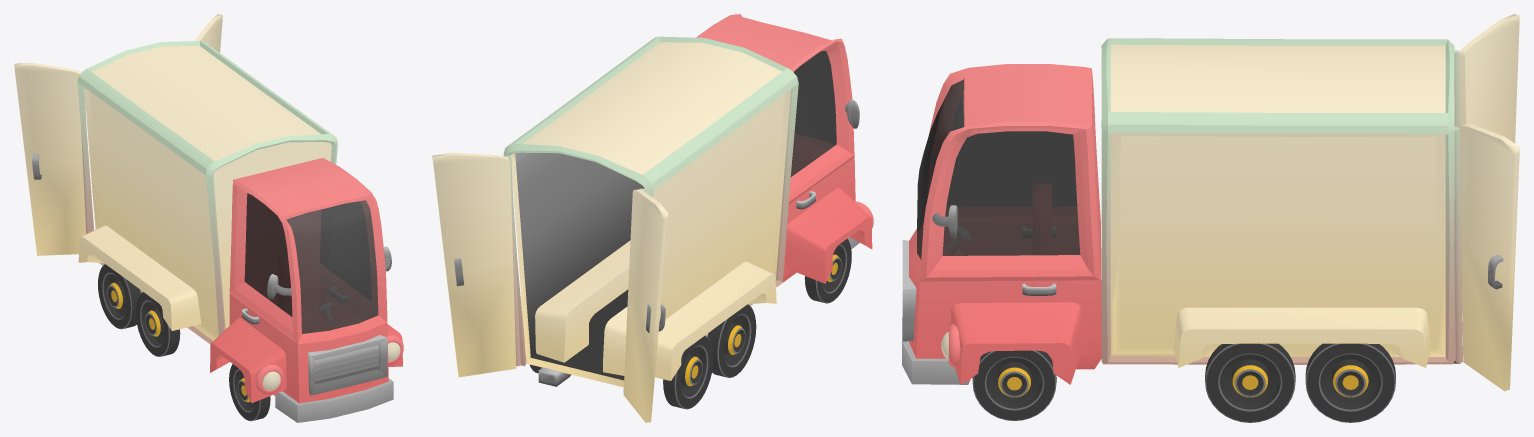
File: LKW-downsized.glb
The picture shows the model from 3 angles, left to right: view 1: azimuth 30°, elevation 25°; view 2: azimuth 150°, elevation 25°; view 3: azimuth 270°, elevation 25°; orthographic projection. The views are drawn at different scales.
Parts seen in each view (by area): view 1: Wagen.001, LKW-Kabine.001, wheels2, wheels; view 2: Wagen.001, LKW-Kabine.001, wheels2, wheels; view 3: Wagen.001, LKW-Kabine.001, wheels2, wheels.
Part boxes in pixels (x1,y1,x2,y2): Wagen.001: (14, 14, 337, 343); LKW-Kabine.001: (210, 158, 403, 422); wheels2: (98, 264, 180, 356); wheels: (229, 364, 270, 421); Wagen.001: (432, 36, 798, 422); LKW-Kabine.001: (696, 14, 873, 286); wheels2: (530, 304, 756, 409); wheels: (804, 238, 851, 303); Wagen.001: (1101, 14, 1519, 391); LKW-Kabine.001: (902, 64, 1101, 384); wheels2: (1205, 343, 1395, 422); wheels: (972, 350, 1056, 420).
Bounding box in the file's own units: 2.1 × 2.29 × 4.06.
Materials: 5 (4 with a texture image).
